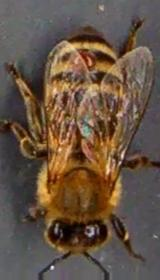varroa_mite: (64, 42, 104, 80)
